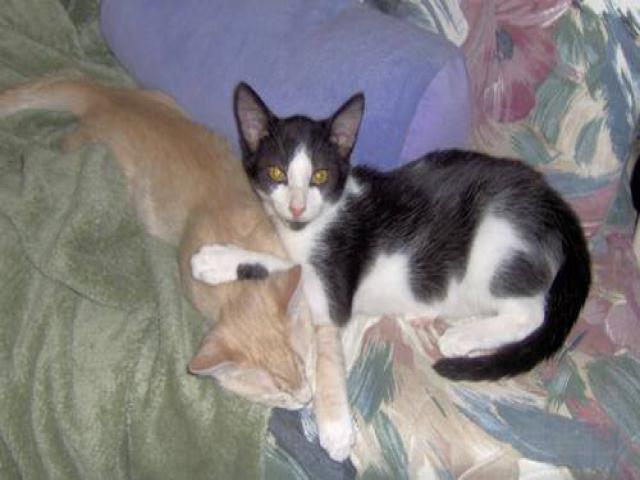cat: (193, 85, 581, 424)
